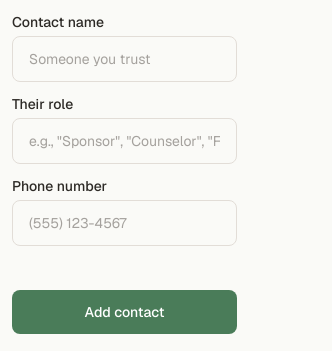
SupportContactForm › validation › shows error when role is empty
The image size is (332, 351).
Type "Jane" into the field labelled "Contact name" at [124, 59], box [12,36,237,82]
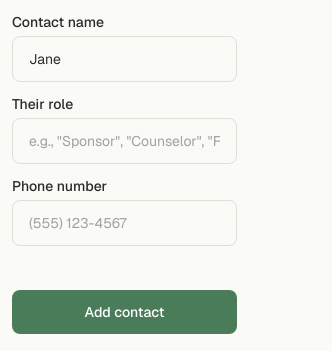
Type "555-0000" into the field labelled "Phone number" at [124, 223], box [12,200,237,246]
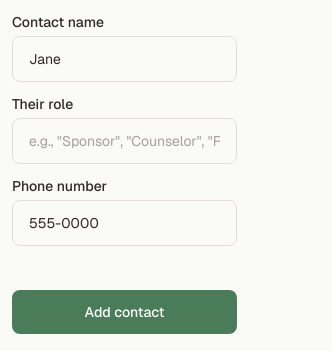
Click the button "Add contact" at [124, 312], box [12,290,237,334]
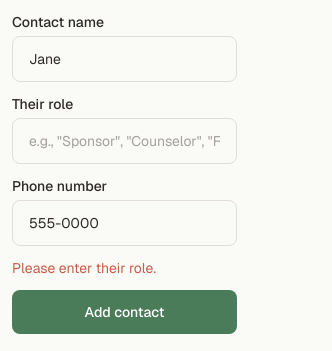
Check: the text "Please enter their role." is shown, box [12,259,156,277]
